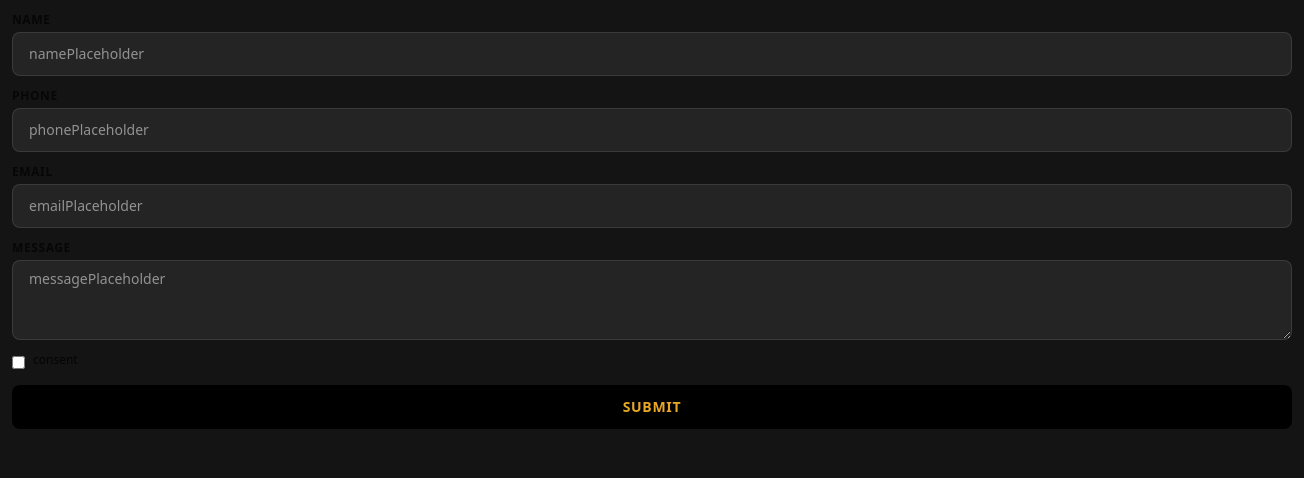
Scenario: <ContactForm /> › shows server error message when action returns server error
Type "Jan Kowalski" into the field with placeholder "namePlaceholder" at coordinates (652, 54), box x1=12 y1=32 x2=1292 y2=76
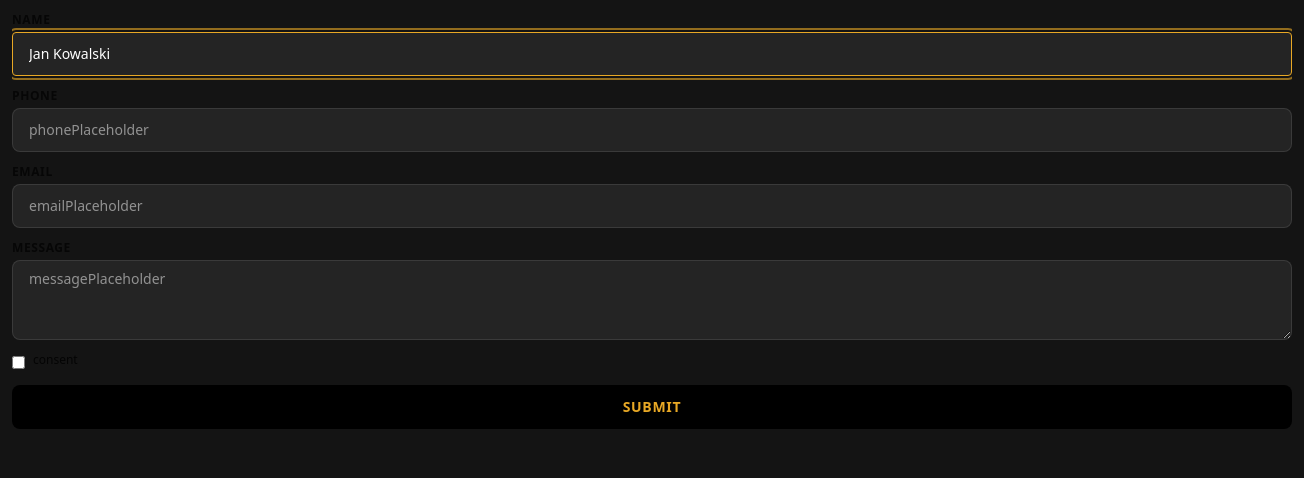
Type "+48 500 100 200" into the field with placeholder "phonePlaceholder" at coordinates (652, 130), box x1=12 y1=108 x2=1292 y2=152
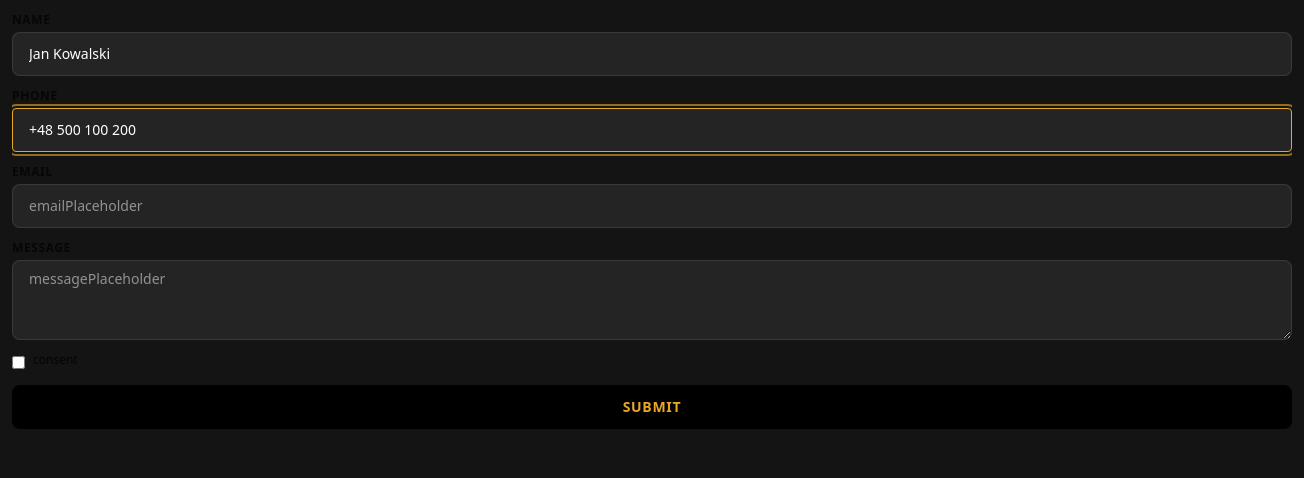
Click the checkbox at coordinates (18, 362), box x1=12 y1=356 x2=25 y2=369
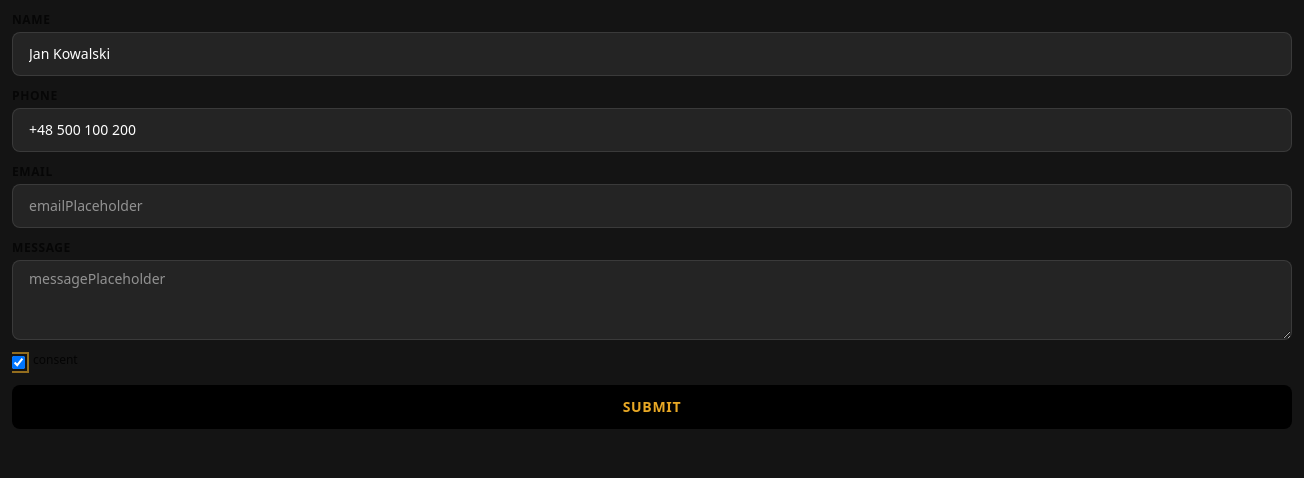
Click the button "submit" at coordinates (652, 407), box x1=12 y1=385 x2=1292 y2=429
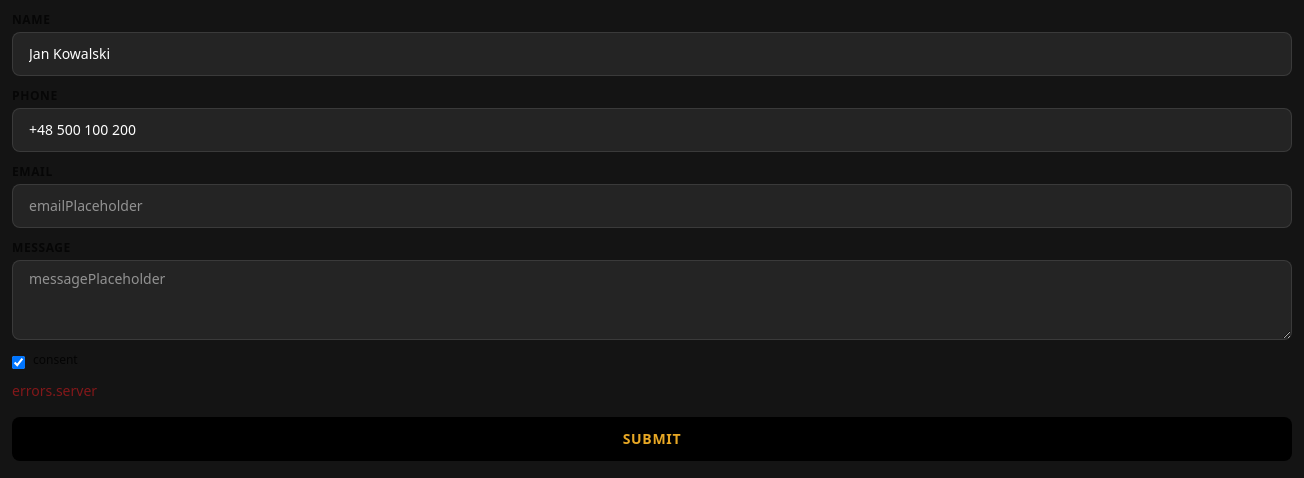
Check: the text "errors.server" is shown, box x1=12 y1=381 x2=97 y2=400
